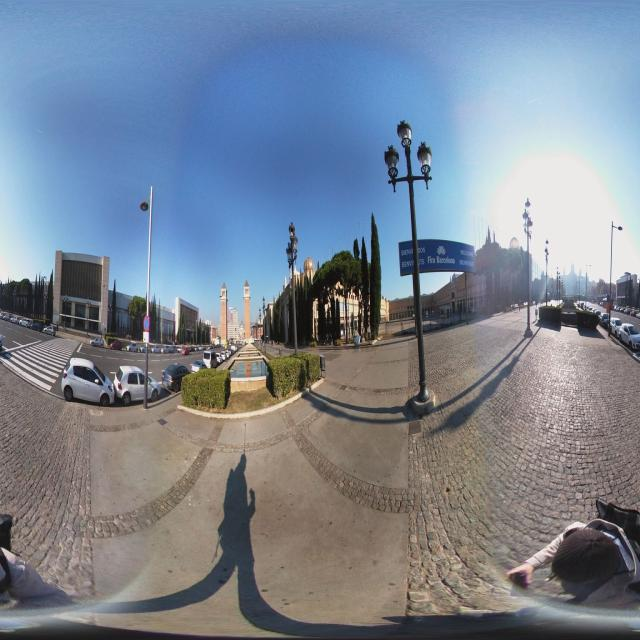forb_stopping: (143, 315, 149, 332)
